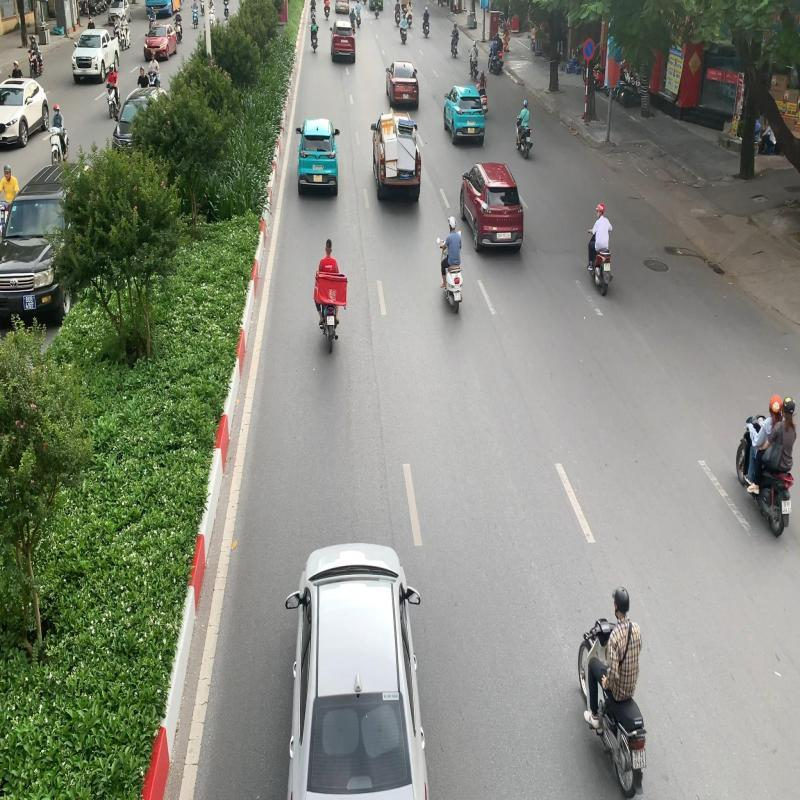helmet: (611, 590, 632, 616), (769, 392, 783, 416), (781, 396, 796, 415)
licenseplate: (632, 746, 648, 772), (780, 498, 794, 516), (326, 316, 336, 326)
motorcyclist: (572, 586, 652, 799), (736, 392, 800, 538), (312, 238, 347, 354)
nohelmet: (325, 238, 333, 254)
